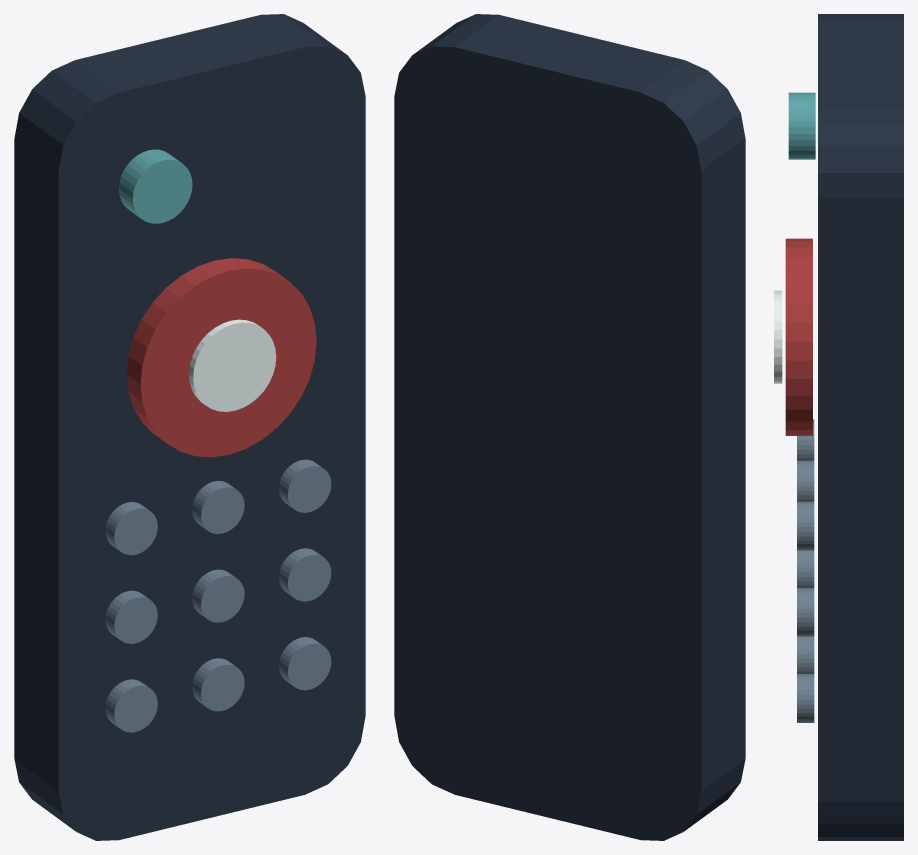
The model's file is remote.glb.
The picture shows the model from 3 angles, left to right: view 1: azimuth 30°, elevation 25°; view 2: azimuth 150°, elevation 25°; view 3: azimuth 270°, elevation 25°; orthographic projection. The views are drawn at different scales.
Parts seen in each view (by area): view 1: housing, direction ring, ok button, power key, key 1-2, key 0-2, key 1-1, key 0-1, key 2-1, key 0-0, key 2-0, key 1-0 (+1 smaller); view 2: housing; view 3: housing, direction ring, power key, key 2-0, key 2-1, key 2-2, ok button, key 1-0, key 1-1, key 1-2, key 0-0.
Part boxes in pixels (box(x1,y1,x2,y2)): housing: box(14, 14, 365, 840); direction ring: box(126, 258, 316, 457); ok button: box(189, 319, 276, 411); power key: box(119, 149, 192, 223); key 1-2: box(192, 658, 244, 711); key 0-2: box(105, 679, 157, 732); key 1-1: box(192, 569, 244, 622); key 0-1: box(105, 590, 157, 643); key 2-1: box(279, 548, 331, 601); key 0-0: box(105, 502, 157, 555); key 2-0: box(279, 459, 331, 512); key 1-0: box(192, 480, 244, 533); housing: box(394, 14, 745, 840); housing: box(818, 14, 903, 840); direction ring: box(785, 238, 812, 435); power key: box(788, 92, 815, 159); key 2-0: box(797, 501, 814, 550); key 2-1: box(797, 588, 814, 636); key 2-2: box(797, 674, 814, 722); ok button: box(774, 290, 782, 383); key 1-0: box(797, 460, 814, 501); key 1-1: box(797, 550, 814, 587); key 1-2: box(797, 636, 814, 673); key 0-0: box(797, 419, 814, 460).
Size of the model in its own units: 0.76 by 1.77 by 0.287.
